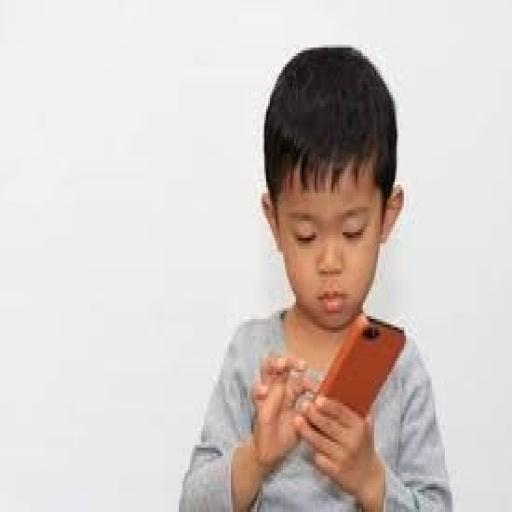texting: (177, 42, 454, 509)
